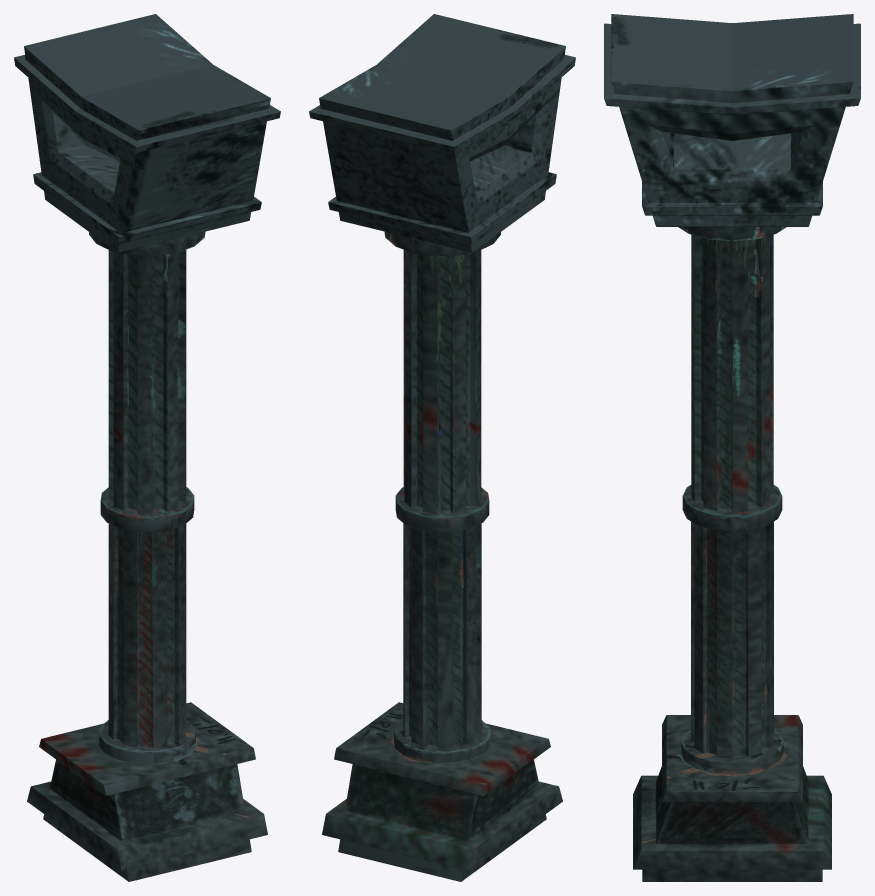
File: Pillar2.fbx
3 views of the same model, side by side, from view 1: azimuth 30°, elevation 25°; view 2: azimuth 150°, elevation 25°; view 3: azimuth 270°, elevation 25° (orthographic). The views are drawn at different scales.
Visible parts, largest first — view 1: Cube.048; view 2: Cube.048; view 3: Cube.048.
Part boxes in pixels (<box>): Cube.048: <box>14,14,280,881</box>; Cube.048: <box>309,14,575,881</box>; Cube.048: <box>604,14,860,881</box>.
Bounding box in the file's own units: 385 × 1866 × 541.
